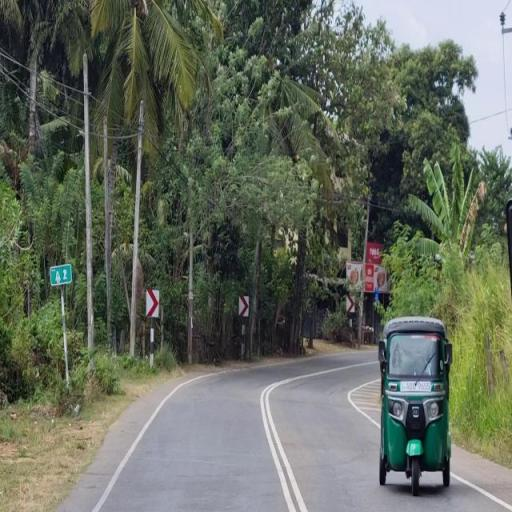double_white_line: (261, 377, 306, 512), (347, 376, 378, 428)
